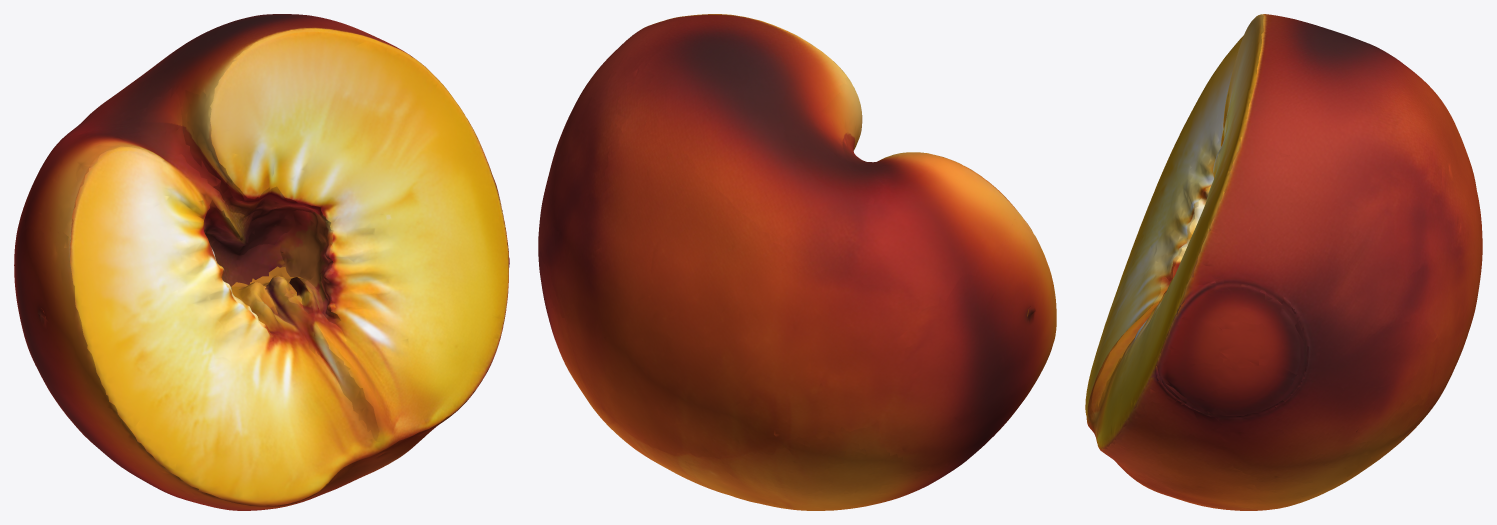
3 views of the same model, side by side, from view 1: azimuth 30°, elevation 25°; view 2: azimuth 150°, elevation 25°; view 3: azimuth 270°, elevation 25° (orthographic). The views are drawn at different scales.
Parts seen in each view (by area): view 1: world; view 2: world; view 3: world.
Boxes of the visible parts, x1,y1,x2,y2 form: world: [14, 14, 509, 510]; world: [538, 14, 1056, 510]; world: [1085, 14, 1482, 510].
Bounding box in the file's own units: 200 × 193 × 148.
1 material, 1 textured.
